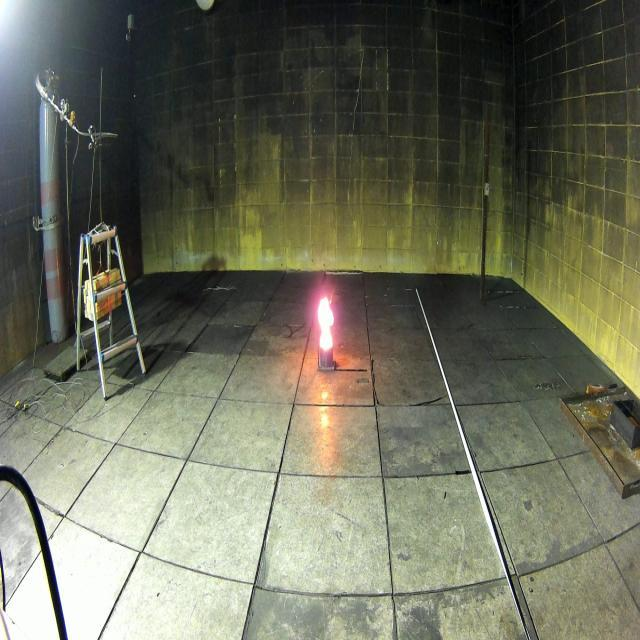Fire: (318, 296, 334, 351)
